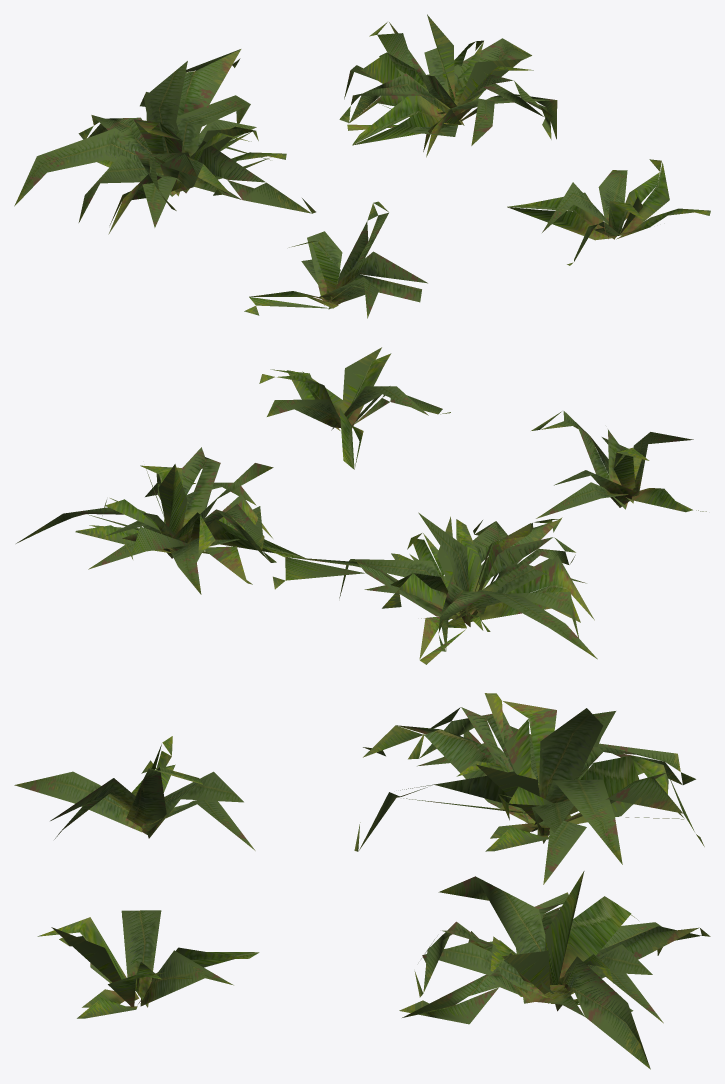
The model's file is fern_02_lod2.gltf.
3 views of the same model, one above another, from view 1: azimuth 30°, elevation 25°; view 2: azimuth 150°, elevation 25°; view 3: azimuth 270°, elevation 25° (orthographic). The views are drawn at different scales.
Visible parts, largest first — view 1: fern_02_lod2; view 2: fern_02_lod2; view 3: fern_02_lod2.
Boxes of the visible parts, x1,y1,x2,y2 form: fern_02_lod2: [14, 14, 710, 318]; fern_02_lod2: [16, 347, 706, 664]; fern_02_lod2: [14, 693, 710, 1069].
Size of the model in its own units: 1.96 by 0.3998 by 1.71.
Materials: 1 (1 with a texture image).
